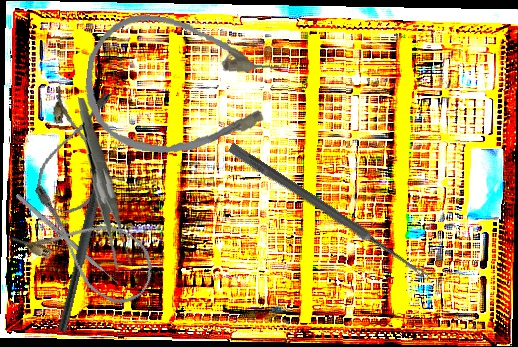Cannula: (78, 8, 287, 167), (6, 181, 166, 314), (33, 84, 115, 217)
Chopper: (57, 140, 124, 336)
Dressing Forceps: (66, 97, 144, 270)
Pusher: (15, 193, 127, 292)
Surgical Spoon: (226, 142, 432, 282)
